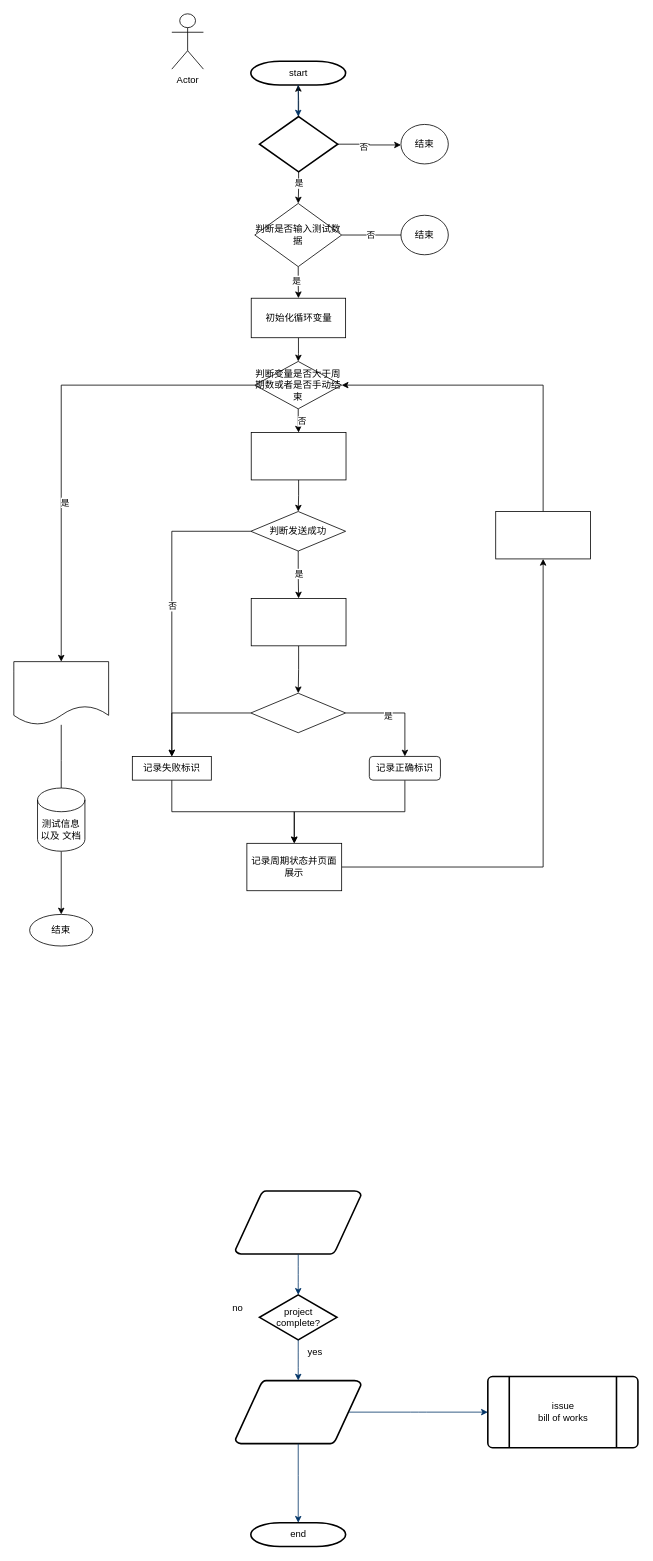
The diagram is 653 pixels wide and 1561 high, and some of its shapes have lost their labels. The shapes that lost their labels are listed below. From the top down, each one's centre as x and y in pixels, then its label:
At [298,143]: "判断是否输入周期数".
At [298,456]: "发送串口数据".
At [543,535]: "循环变量自增".
At [298,622]: "接收单片机返回数据".
At [61,693]: "所有周期状态写入文档".
At [298,712]: "判断数据一致性".
At [297,1222]: "create status report".
At [297,1411]: "create final report".
